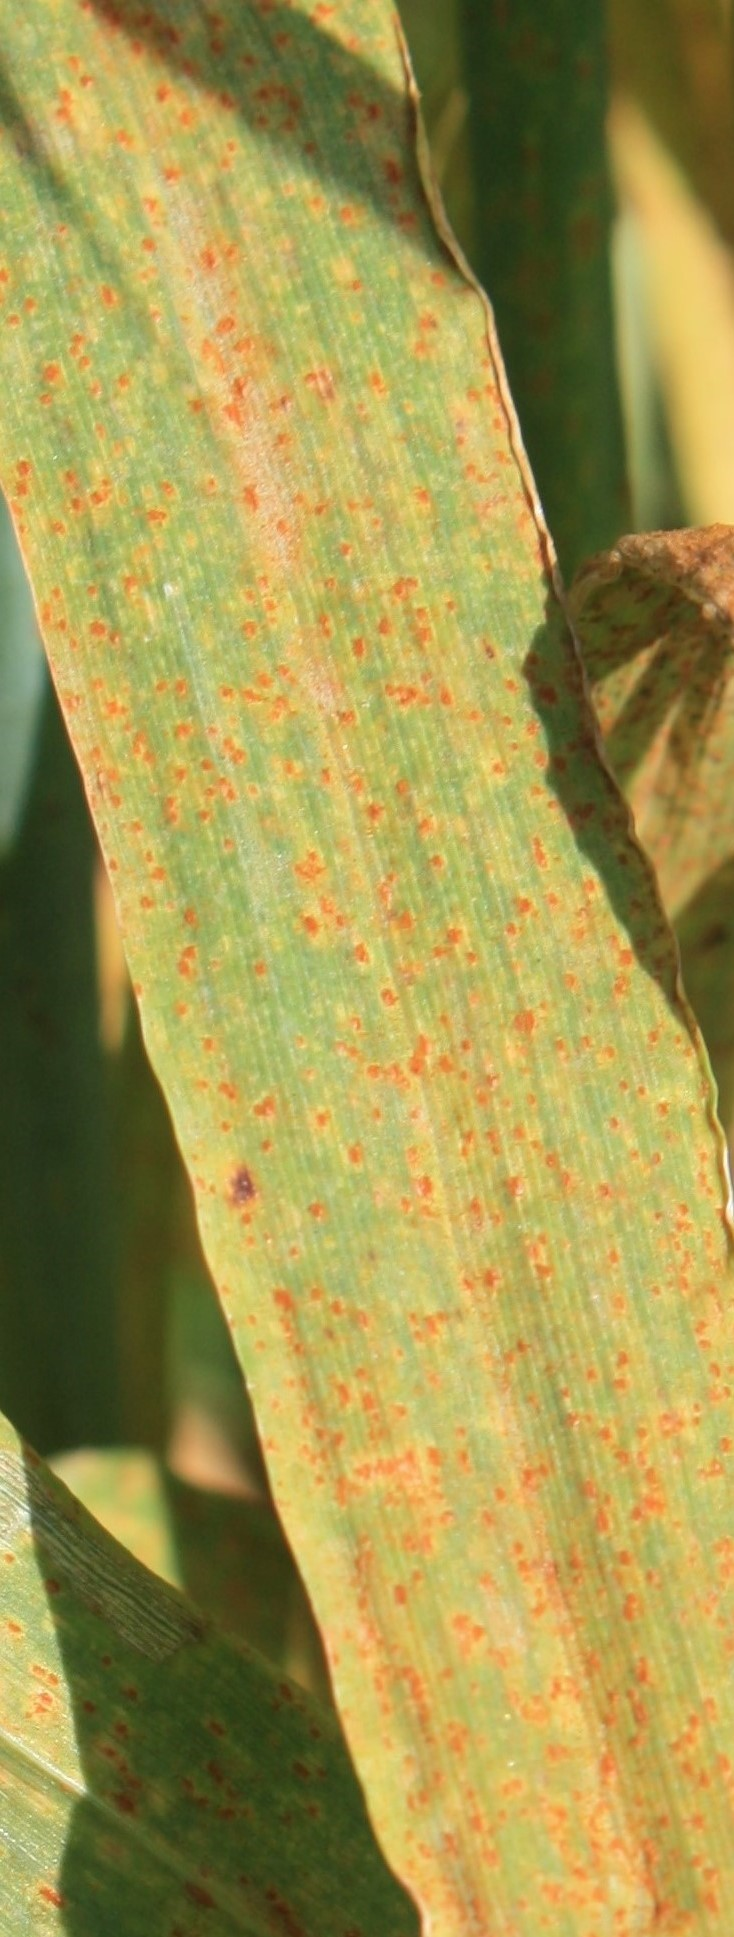Leaf Rust: (12, 137, 734, 1776)
